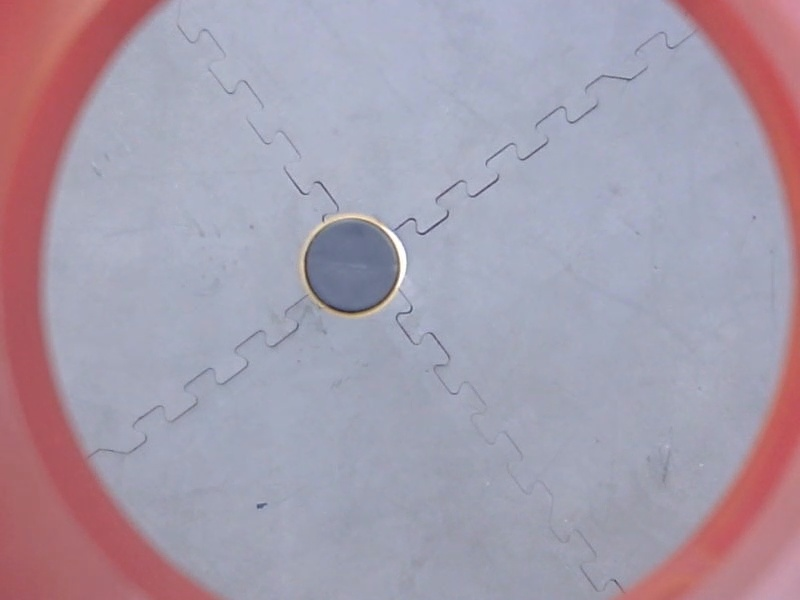tip: (297, 211, 408, 318)
